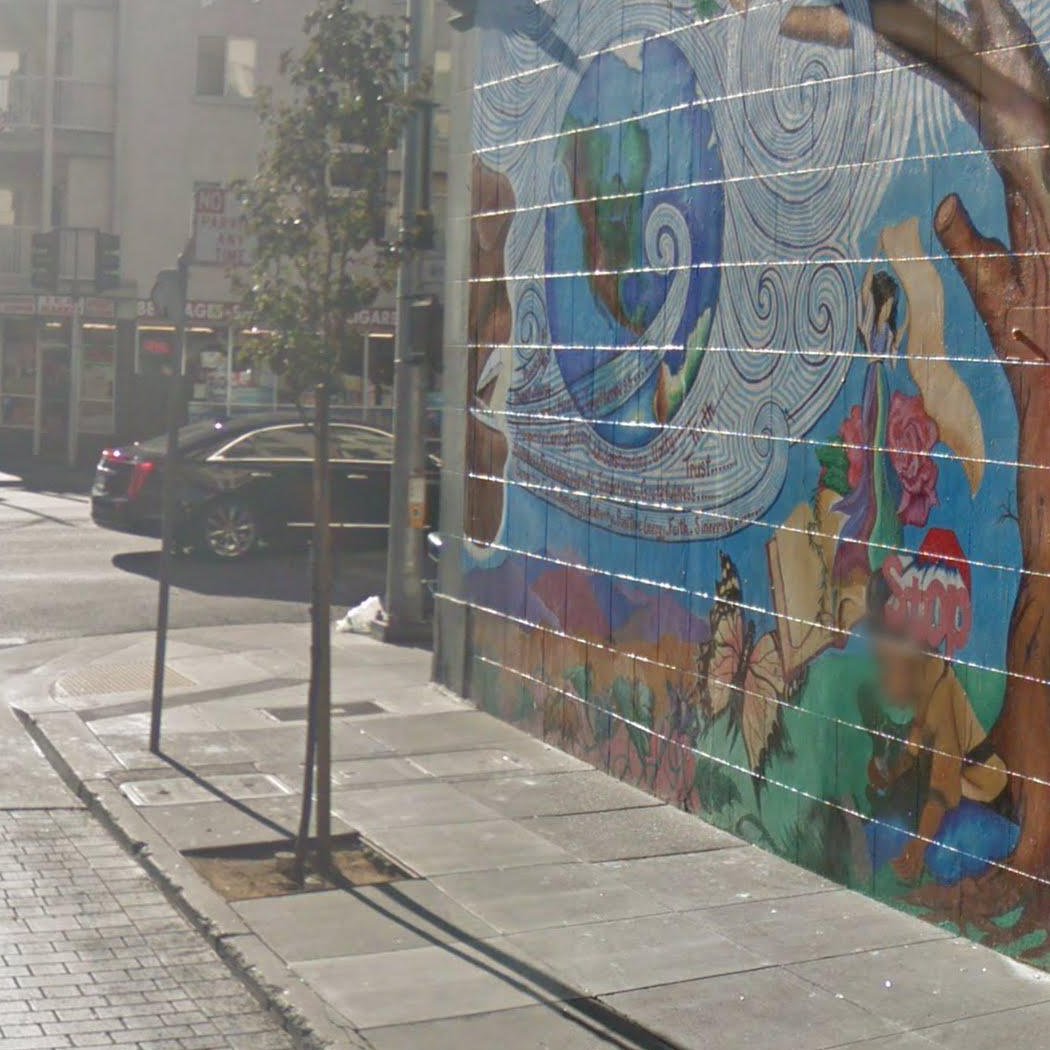No Parking: (191, 180, 261, 268)
